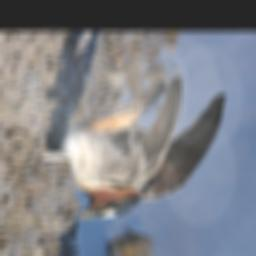Swallow: (18, 75, 227, 219)
